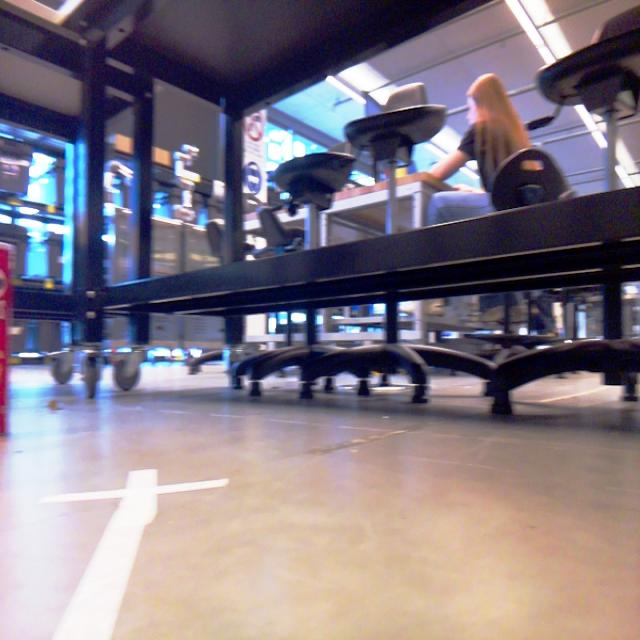redpringles: (0, 202, 33, 454)
